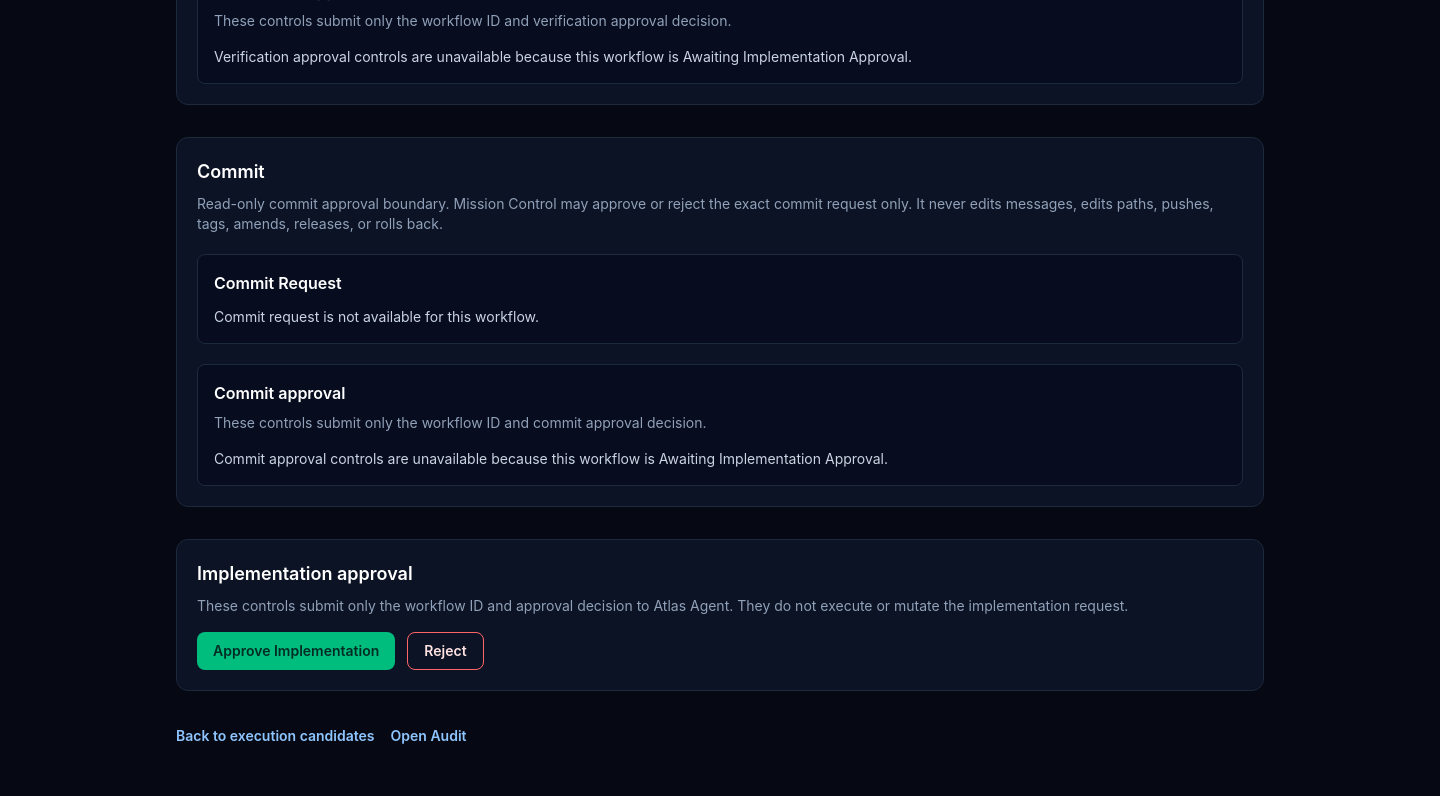
Test: WorkflowPage › hides implementation approval controls after an approve response without state transition
(page scrolled)
What coordinates should you click on to do the following:
click the button "Approve Implementation"
I would click on:
 (296, 651)
Its box is top-left (197, 632), bottom-right (395, 670).
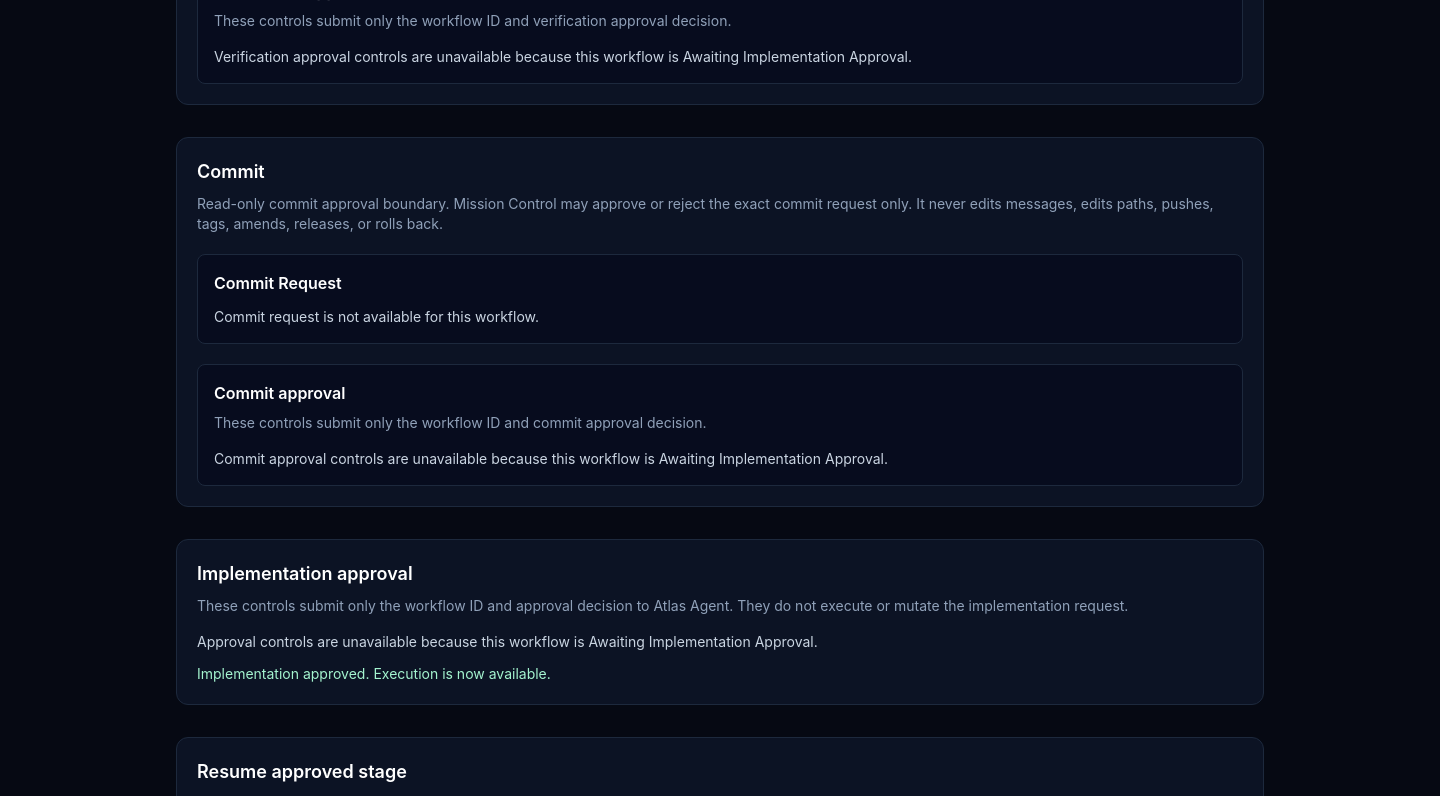
Expected: the text "Implementation approved. Execution is now available." is shown, top-left (197, 665), bottom-right (551, 682)
Expected: the button "Approve Implementation" is gone
